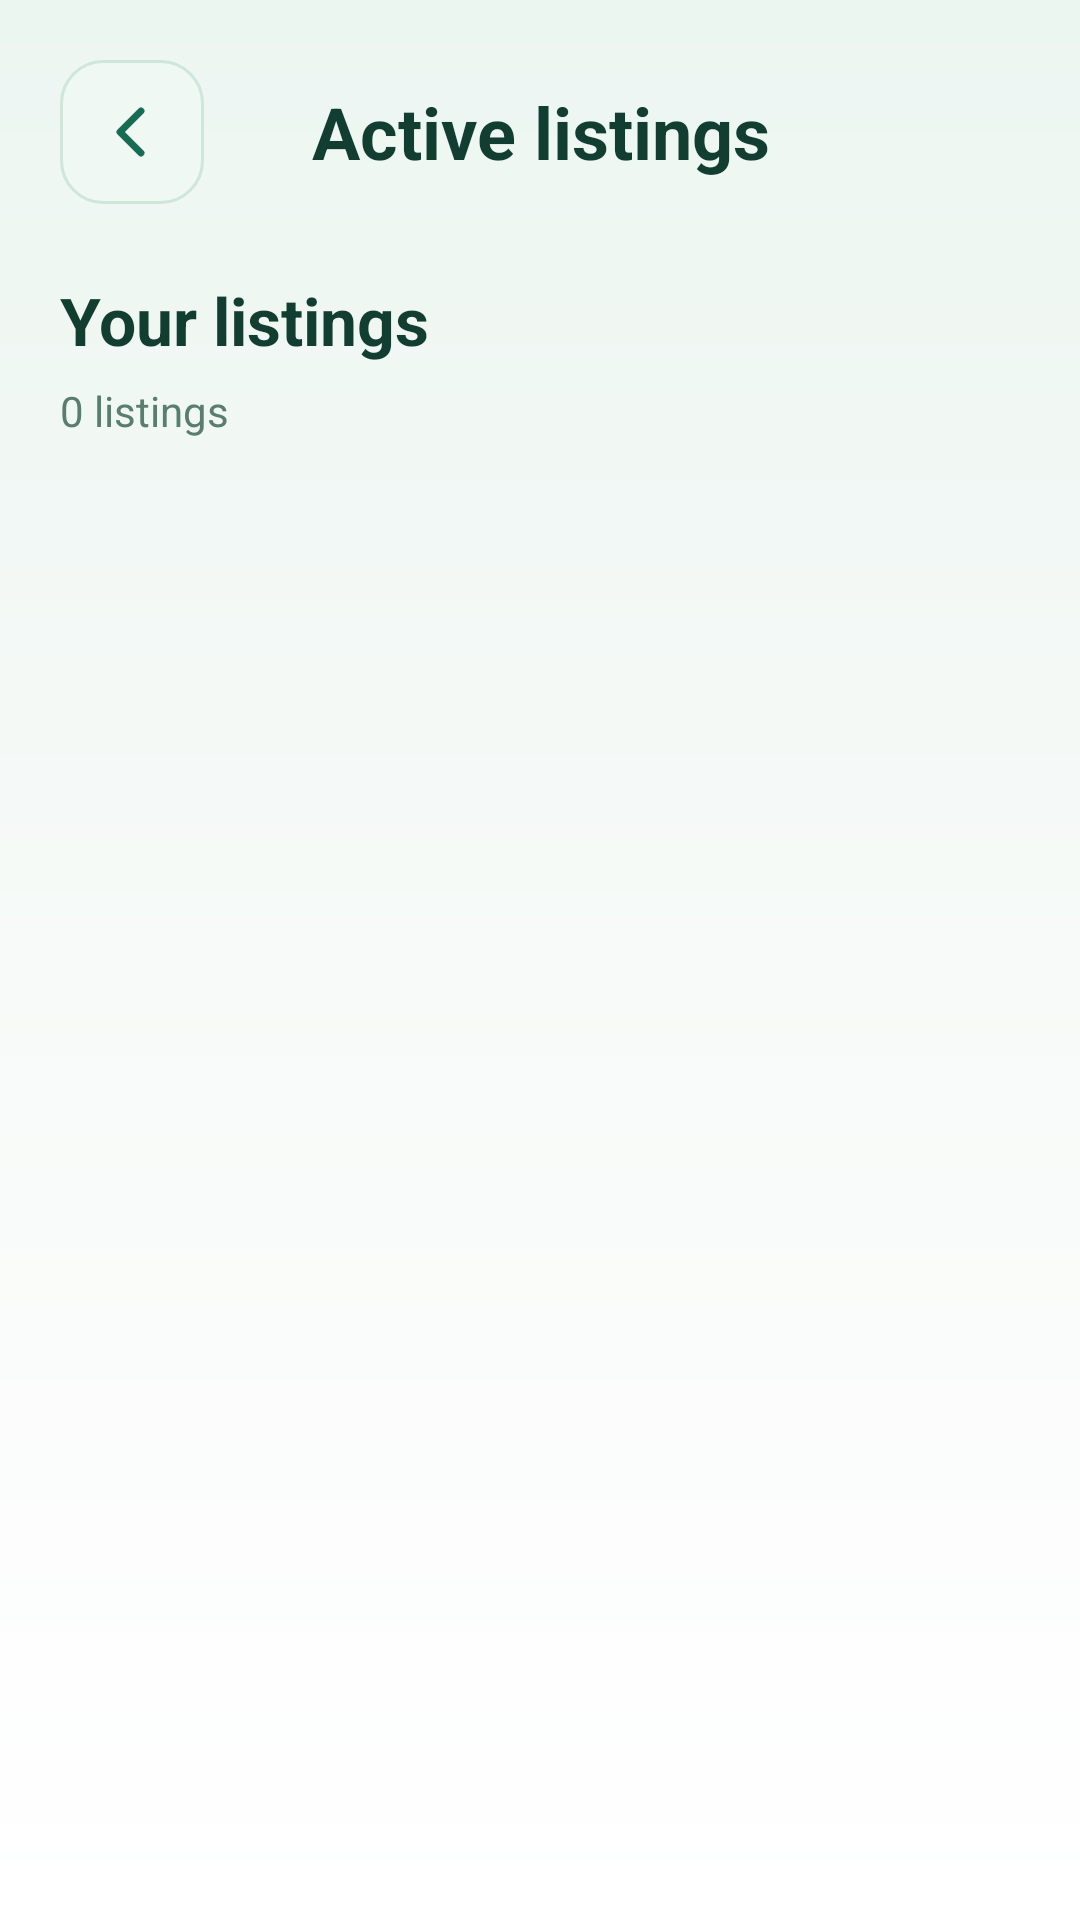

Named icons in this screenshot (1080*1920) and their centers, [x,y]:
Back: [132,132]
